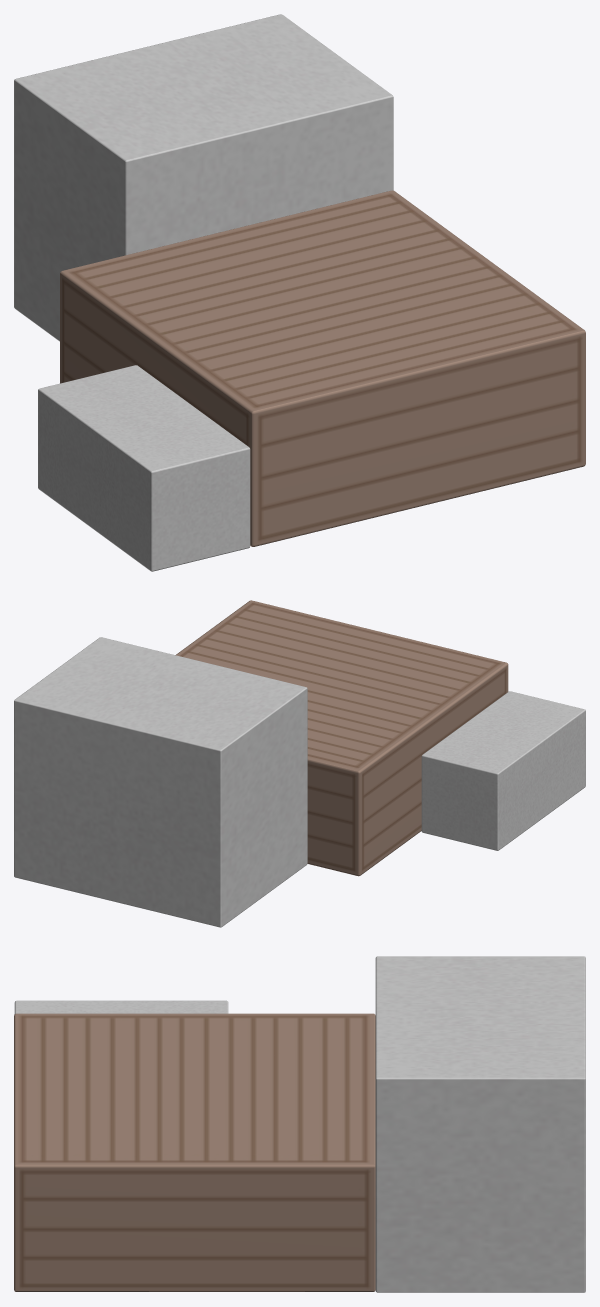
The model's file is T_bench03.fbx.
3 views of the same model, one above another, from view 1: azimuth 30°, elevation 25°; view 2: azimuth 150°, elevation 25°; view 3: azimuth 270°, elevation 25° (orthographic). The views are drawn at different scales.
Parts seen in each view (by area): view 1: bench03; view 2: bench03; view 3: bench03.
Boxes of the visible parts, left/top/right/bottom form: bench03: left=14, top=14, right=585, bottom=571; bench03: left=14, top=600, right=585, bottom=927; bench03: left=14, top=956, right=585, bottom=1292.
Bounding box in the file's own units: 0.8783 × 0.4425 × 1.07.
1 material, 1 textured.
